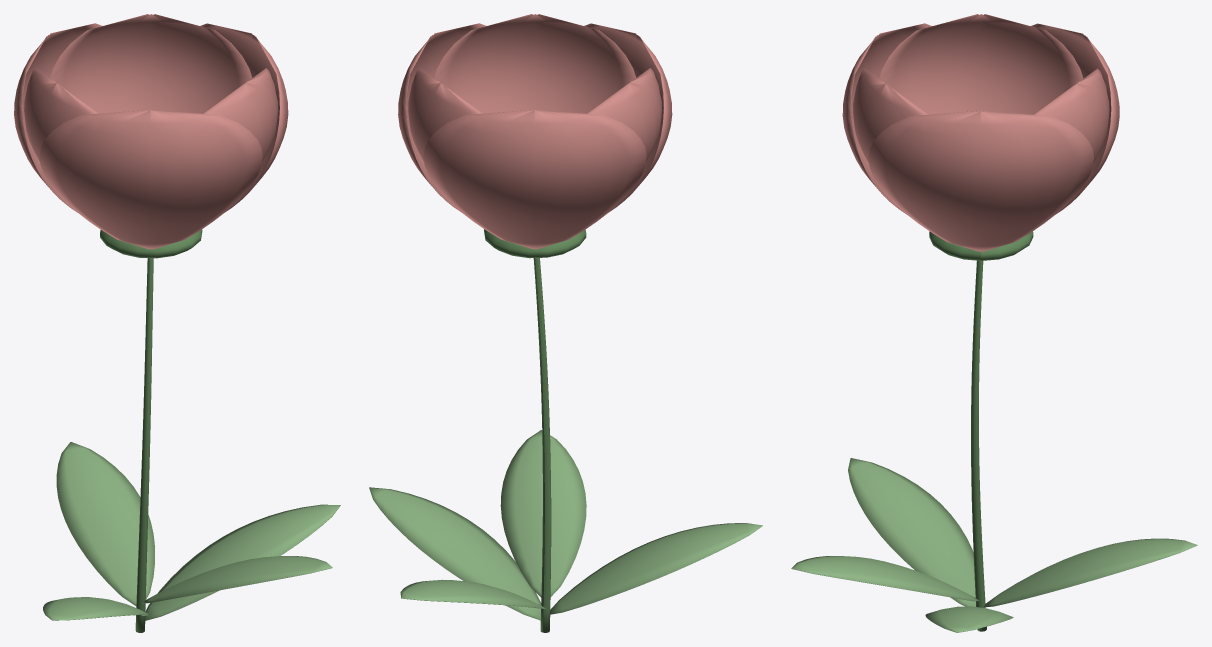
Rendered from tulip-fine-v2.glb.
3 renders of one model, left to right at view 1: azimuth 30°, elevation 25°; view 2: azimuth 150°, elevation 25°; view 3: azimuth 270°, elevation 25°, orthographic.
Parts seen in each view (by area): view 1: tulip-fine-v2-petal, tulip-fine-v2-leaf, tulip-fine-v2-stem; view 2: tulip-fine-v2-petal, tulip-fine-v2-leaf, tulip-fine-v2-stem; view 3: tulip-fine-v2-petal, tulip-fine-v2-leaf, tulip-fine-v2-stem.
Part boxes in pixels (x1,y1,x2,y2): tulip-fine-v2-petal: [14, 14, 288, 249]; tulip-fine-v2-leaf: [43, 442, 340, 620]; tulip-fine-v2-stem: [100, 229, 202, 632]; tulip-fine-v2-petal: [398, 14, 672, 249]; tulip-fine-v2-leaf: [369, 430, 762, 620]; tulip-fine-v2-stem: [484, 229, 586, 632]; tulip-fine-v2-petal: [842, 14, 1119, 251]; tulip-fine-v2-leaf: [791, 458, 1197, 632]; tulip-fine-v2-stem: [929, 231, 1033, 631].
Size of the model in its own units: 1.38 by 2.2 by 1.41.
